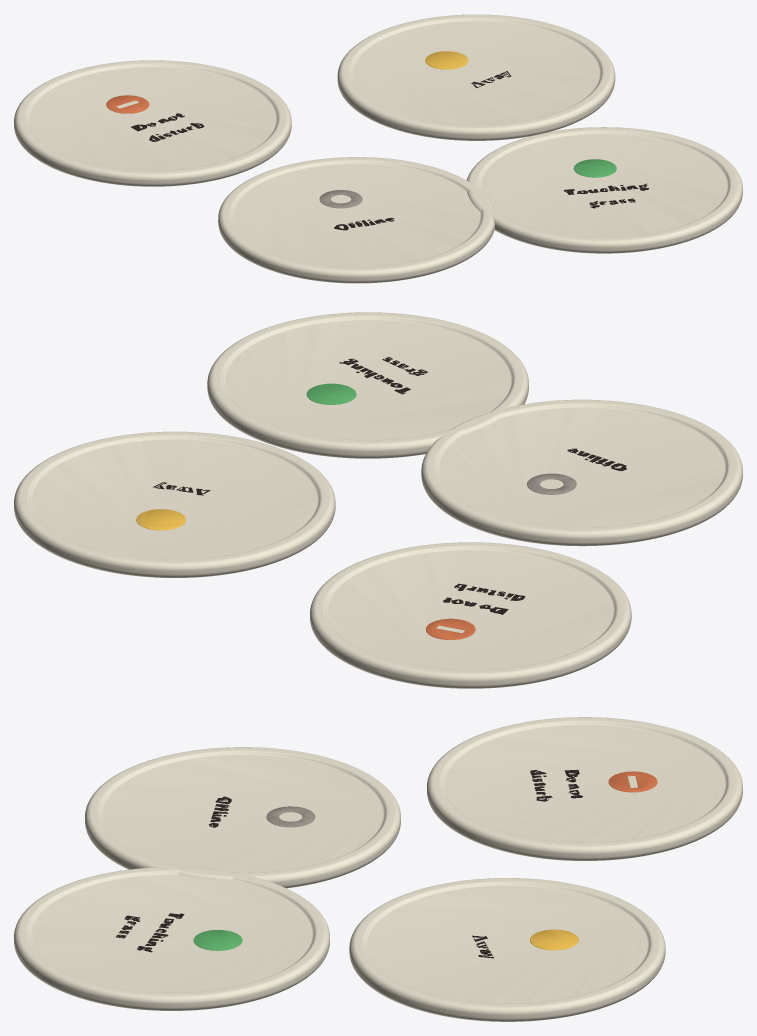
The model's file is status.glb.
3 renders of one model, top to bottom at view 1: azimuth 30°, elevation 25°; view 2: azimuth 150°, elevation 25°; view 3: azimuth 270°, elevation 25°, orthographic. The views are drawn at different scales.
Visible parts, largest first — view 1: st-offline-body; view 2: st-offline-body; view 3: st-offline-body.
Boxes of the visible parts, <box> form: st-offline-body: <box>14,14,742,283</box>; st-offline-body: <box>14,312,742,688</box>; st-offline-body: <box>14,717,742,1021</box>.
Bounding box in the file's own units: 0.216 × 0.00499 × 0.226.
1 material, 1 textured.
